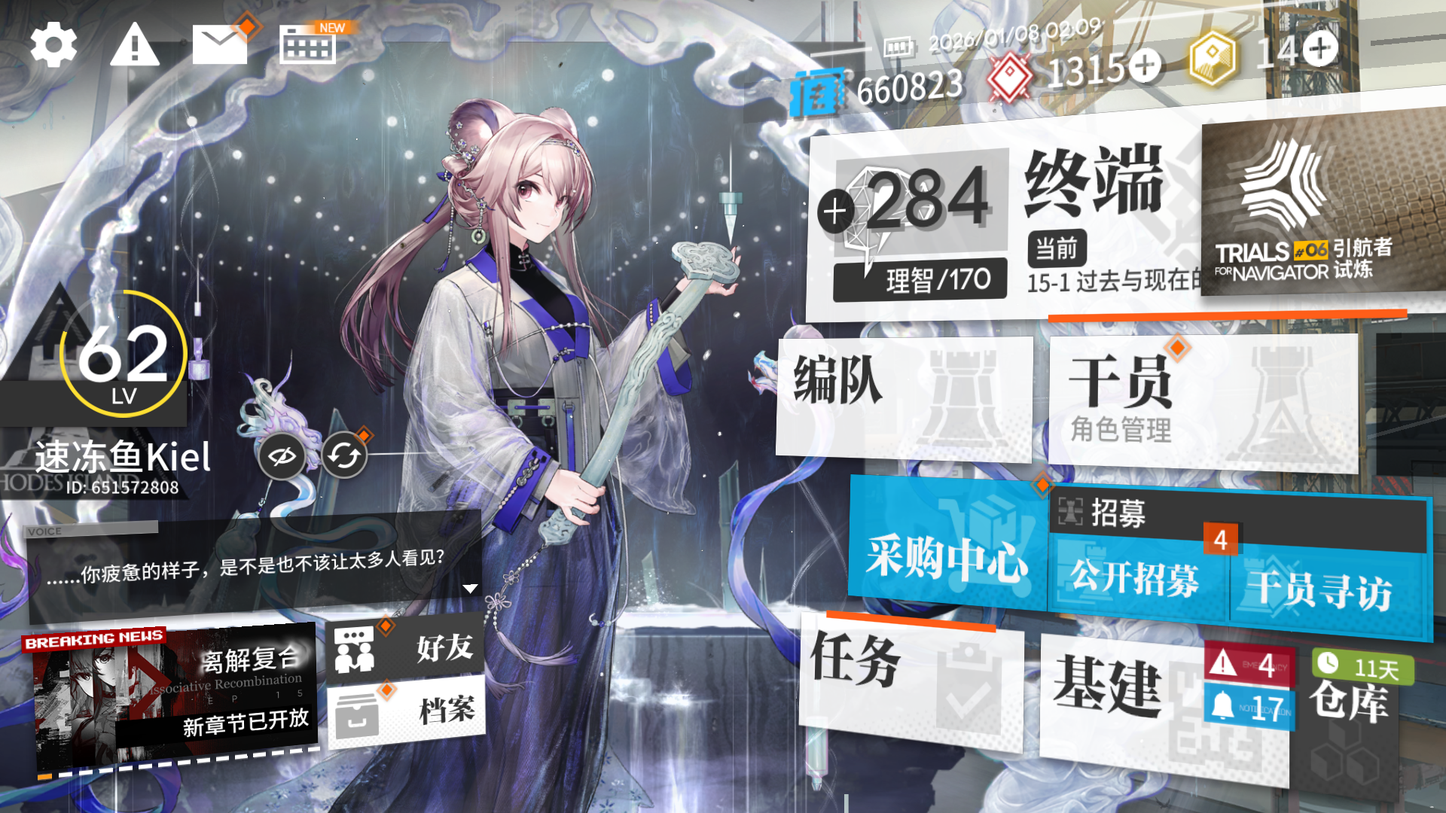home_button: (1013, 132, 1176, 224)
infrastructure_button: (1036, 630, 1307, 777)
